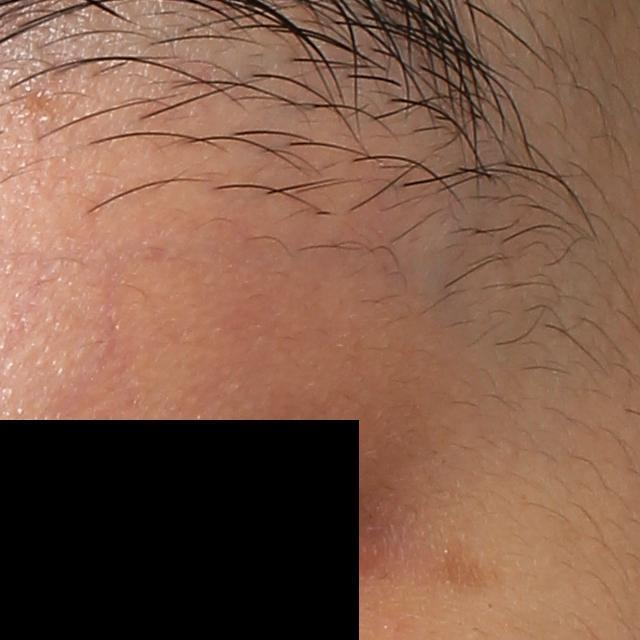melasma: (426, 525, 504, 600)
